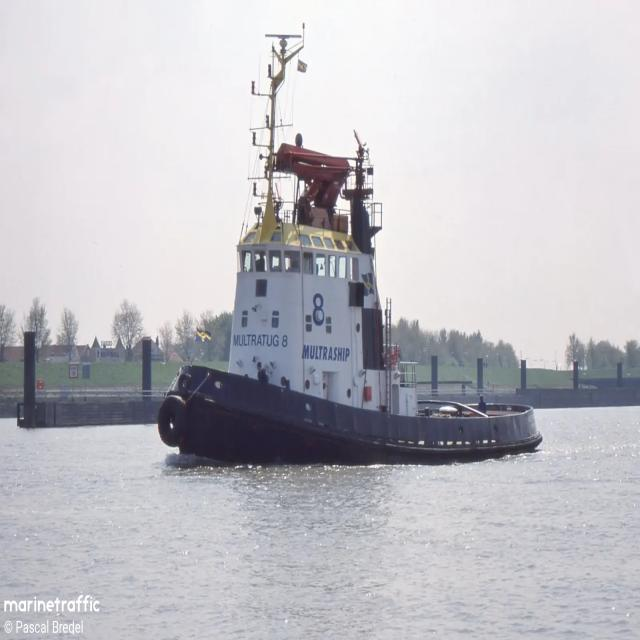Tug: (158, 36, 542, 464)
